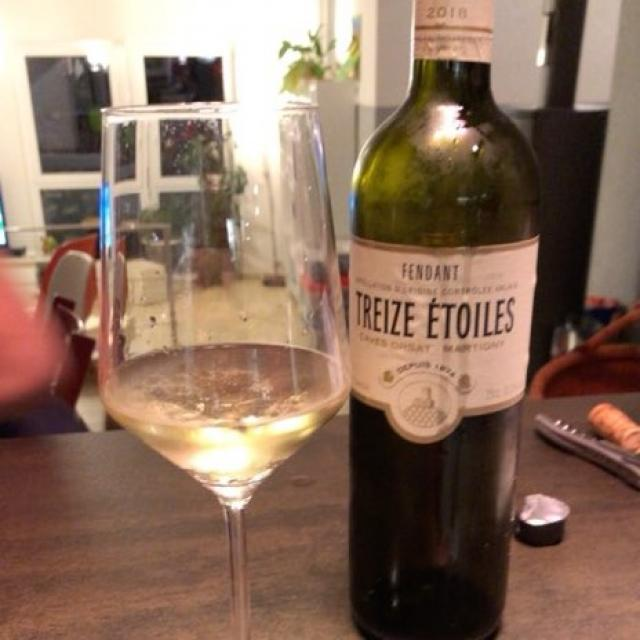wine-white: (111, 326, 346, 502)
